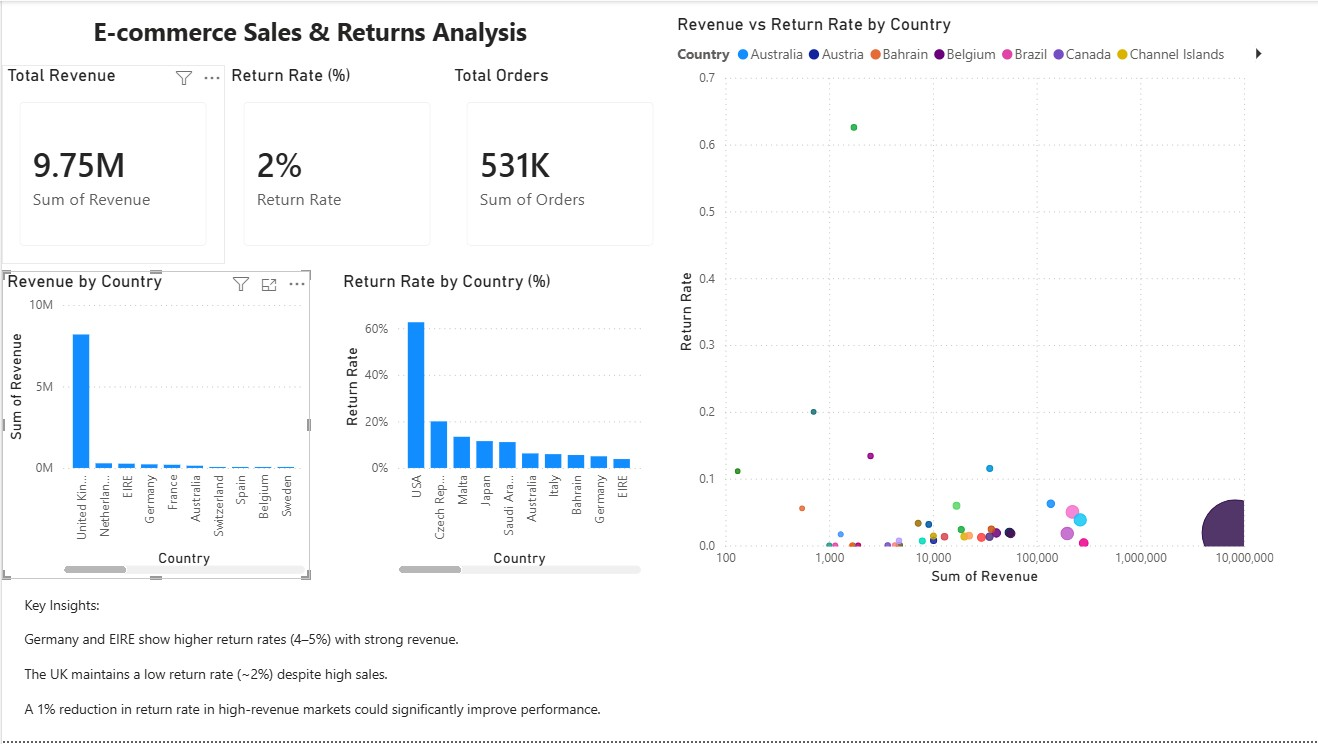

The dashboard page shown, as its layout file describes it:
{"tool":"powerbi","page":{"name":"Page 1","canvas":[1280,720],"ordinal":0},"visuals":[{"type":"clusteredColumnChart","title":"Revenue by Country","fields":{"Y":["Sum(online_retail.Revenue)"],"Category":["online_retail.Country"]},"box":[0,262.6,299.6,299.6],"z":1},{"type":"clusteredColumnChart","title":"Return Rate by Country (%)","fields":{"Y":["online_retail.Return Rate"],"Category":["online_retail.Country"]},"box":[326.8,262.6,299.6,299.6],"z":2},{"type":"scatterChart","title":"Revenue vs Return Rate by Country","fields":{"X":["Sum(online_retail.Revenue)"],"Y":["online_retail.Return Rate"],"Size":["Sum(online_retail.Orders)"],"Series":["online_retail.Country"]},"box":[651.7,12.6,590.4,560.2],"z":3},{"type":"cardVisual","title":"Total Revenue","fields":{"Data":["Sum(online_retail.Revenue)"]},"box":[0,62.2,216.9,193.6],"z":4},{"type":"cardVisual","title":"Return Rate (%)","fields":{"Data":["online_retail.Return Rate"]},"box":[217.9,62.2,216.9,193.6],"z":5},{"type":"cardVisual","title":"Total Orders","fields":{"Data":["Sum(online_retail.Orders)"]},"box":[434.8,62.2,216.9,193.6],"z":6},{"type":"textbox","box":[16.5,572.9,635.1,146.9],"z":7},{"type":"textbox","box":[33.1,7.8,533,54.5],"z":8}]}

Visuals, with their boxes in screenshot pixels (x1, y1, x2, y2), scaled from the page's 1280x720 canvas onto the 1318x744 screenshot:
"Revenue by Country" clusteredColumnChart: <region>0, 271, 308, 581</region>
"Return Rate by Country (%)" clusteredColumnChart: <region>337, 271, 645, 581</region>
"Revenue vs Return Rate by Country" scatterChart: <region>671, 13, 1279, 592</region>
"Total Revenue" cardVisual: <region>0, 64, 223, 264</region>
"Return Rate (%)" cardVisual: <region>224, 64, 448, 264</region>
"Total Orders" cardVisual: <region>448, 64, 671, 264</region>
textbox: <region>17, 592, 671, 743</region>
textbox: <region>34, 8, 583, 64</region>
